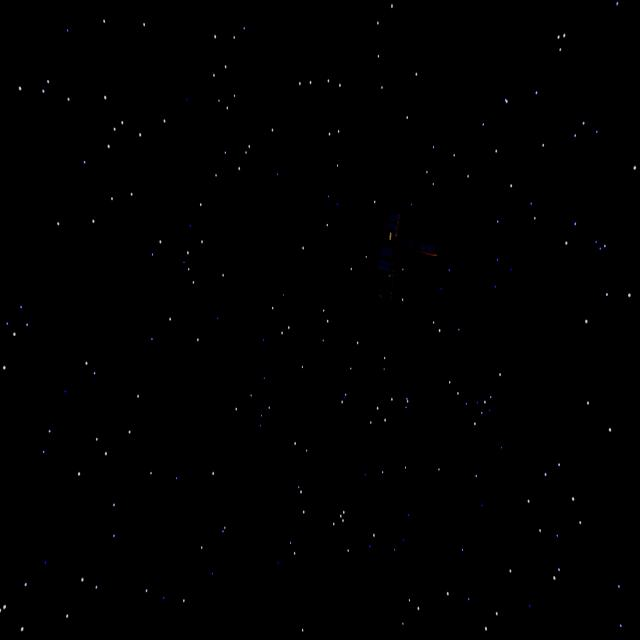satellite: (362, 207, 442, 318)
